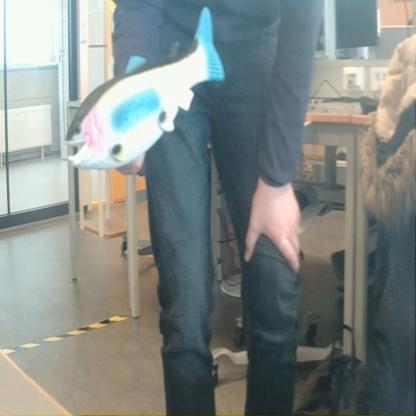rubberfish: (63, 4, 232, 177)
